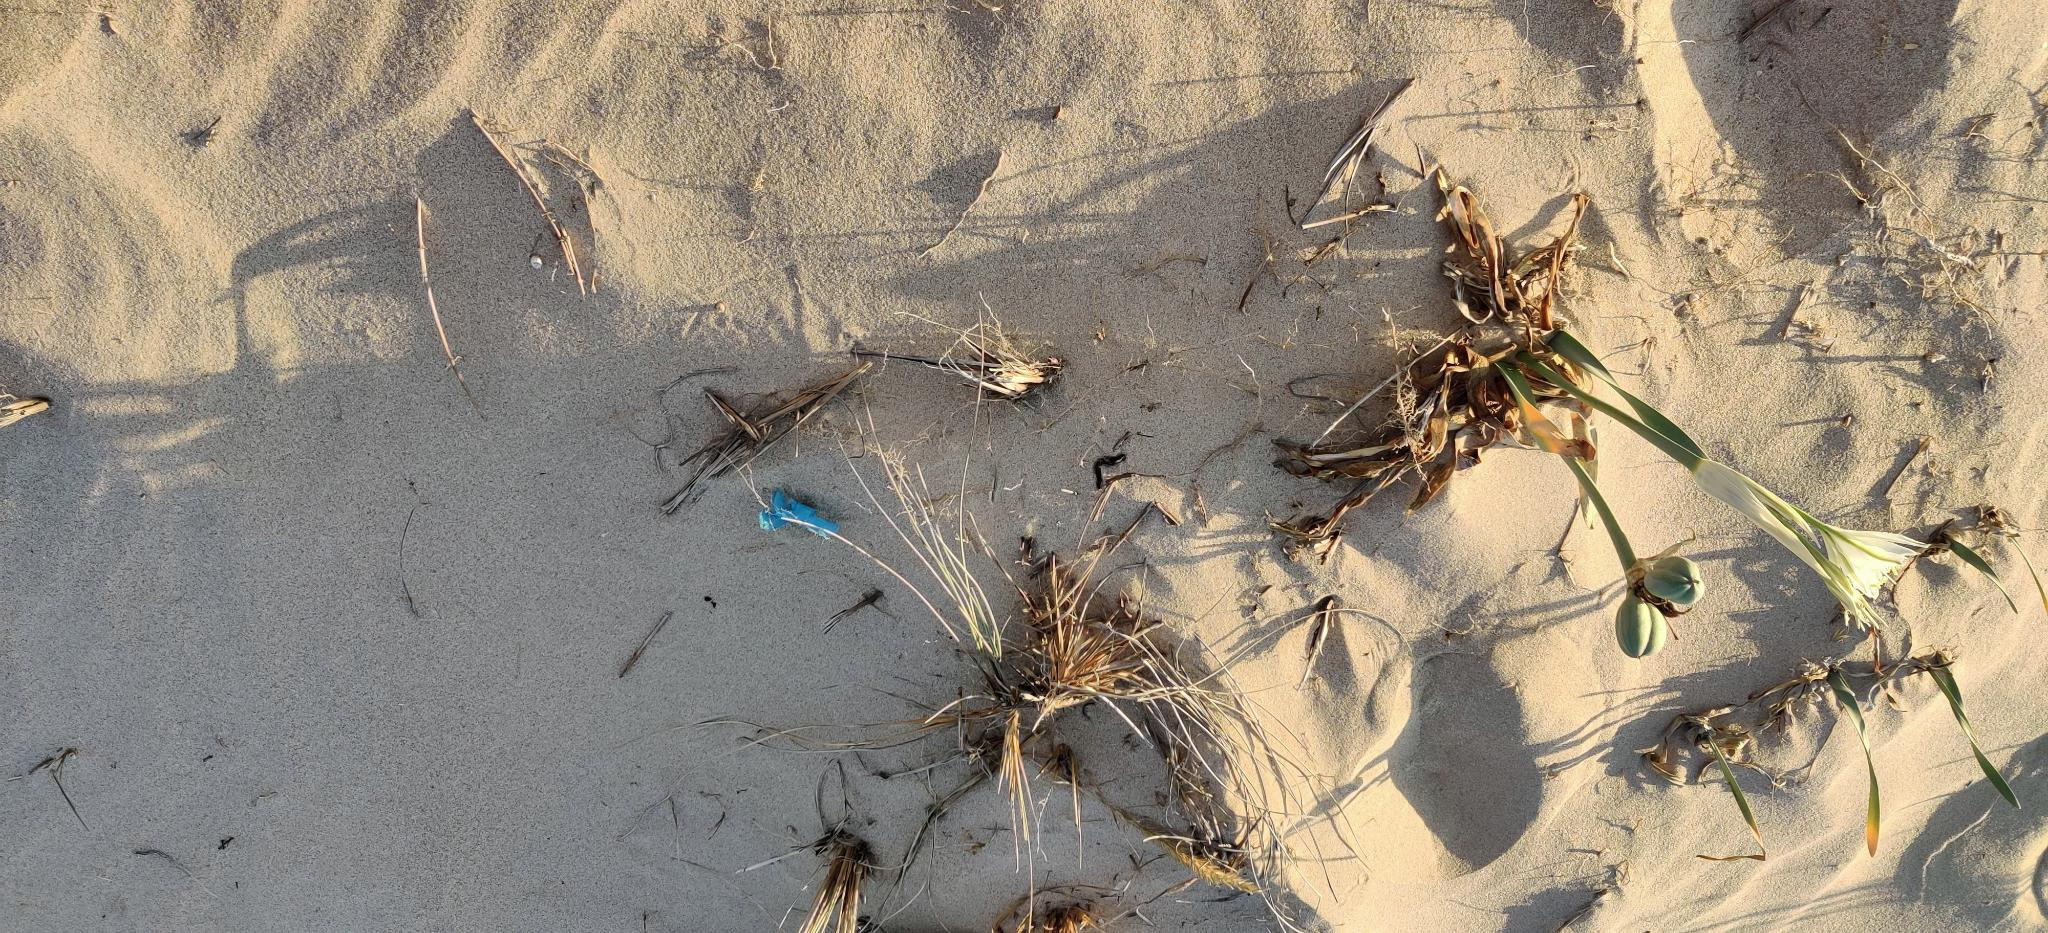Plastic: (755, 483, 845, 542)
